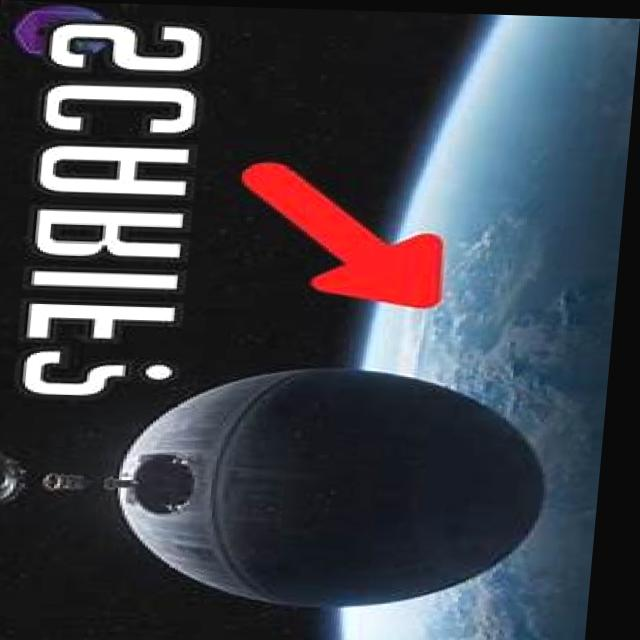deathStar: (111, 365, 565, 614)
